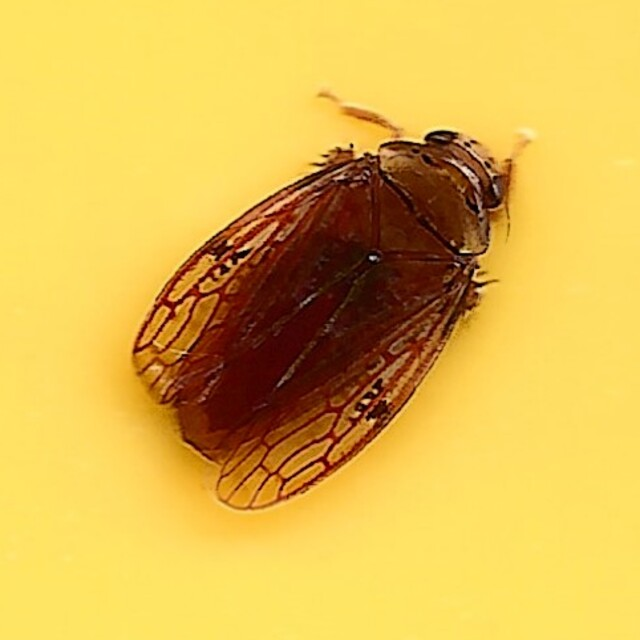Hemiptera: (133, 131, 507, 509)
